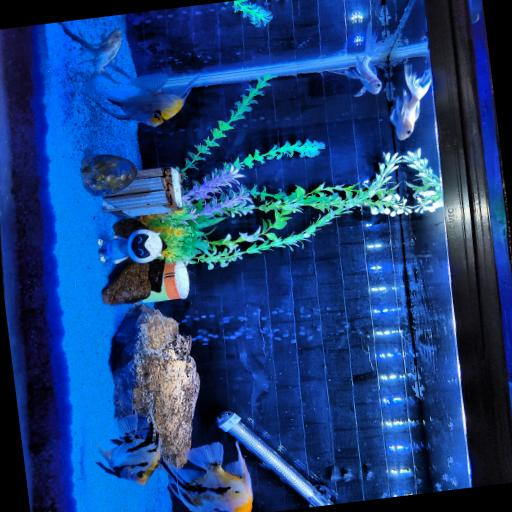Fish: (161, 443, 252, 511), (96, 73, 197, 127), (96, 413, 160, 485), (58, 22, 121, 86), (389, 64, 431, 140), (343, 24, 384, 97), (78, 30, 121, 81)
